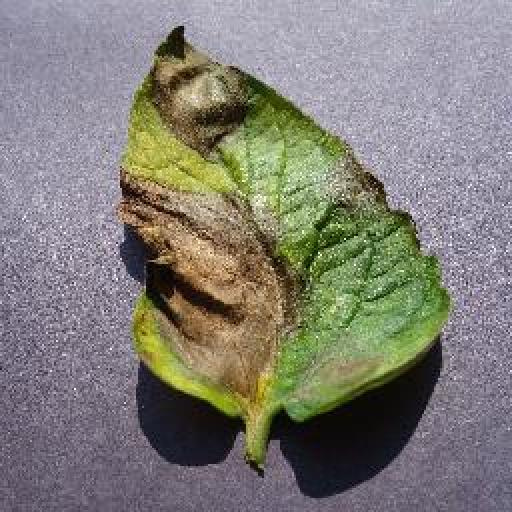disease_tomato: (116, 22, 451, 422)
